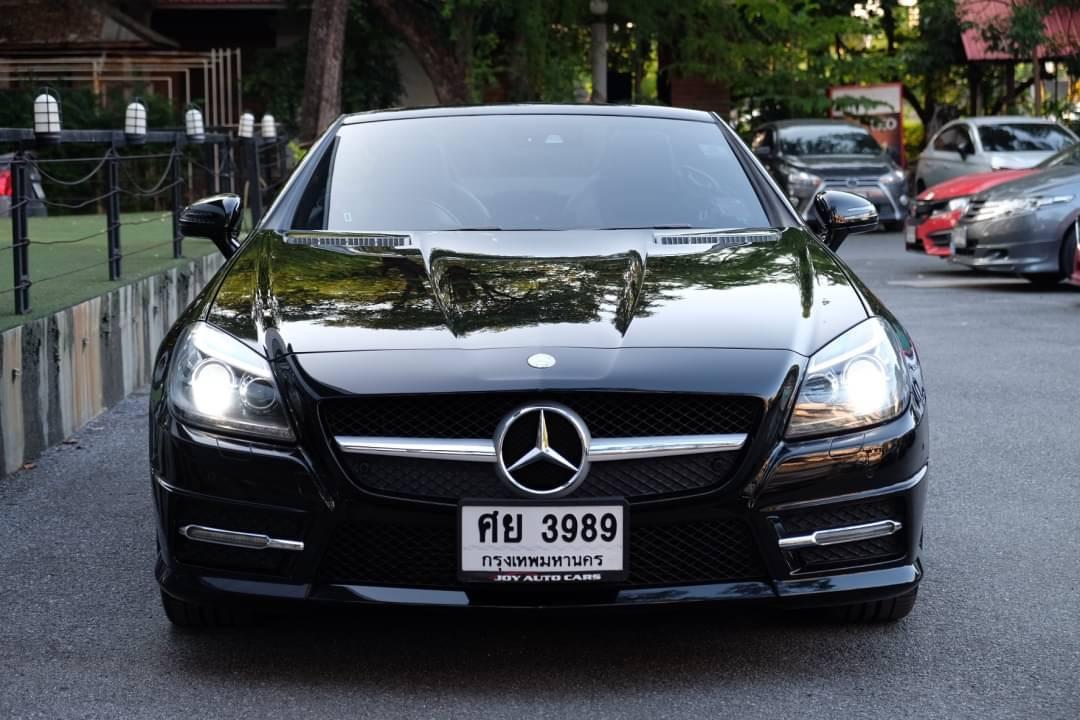license-plate: (452, 497, 631, 594)
